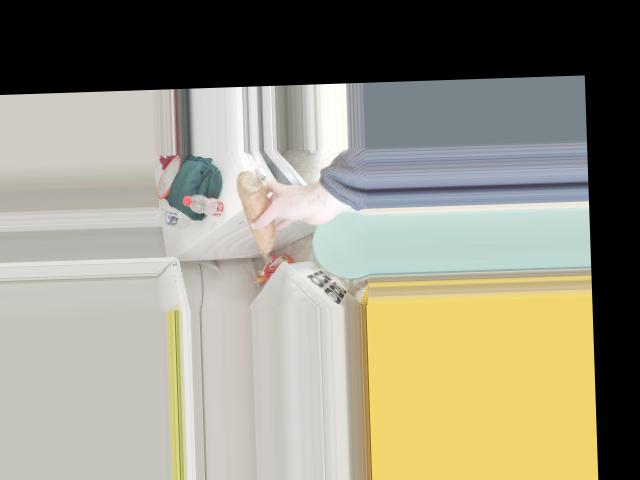sweet_potato: (242, 170, 271, 262)
